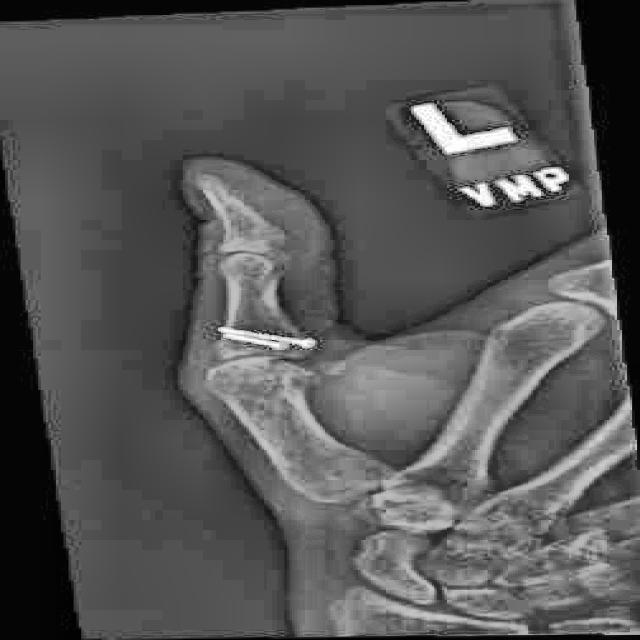fingers positive: (235, 217, 307, 310)
